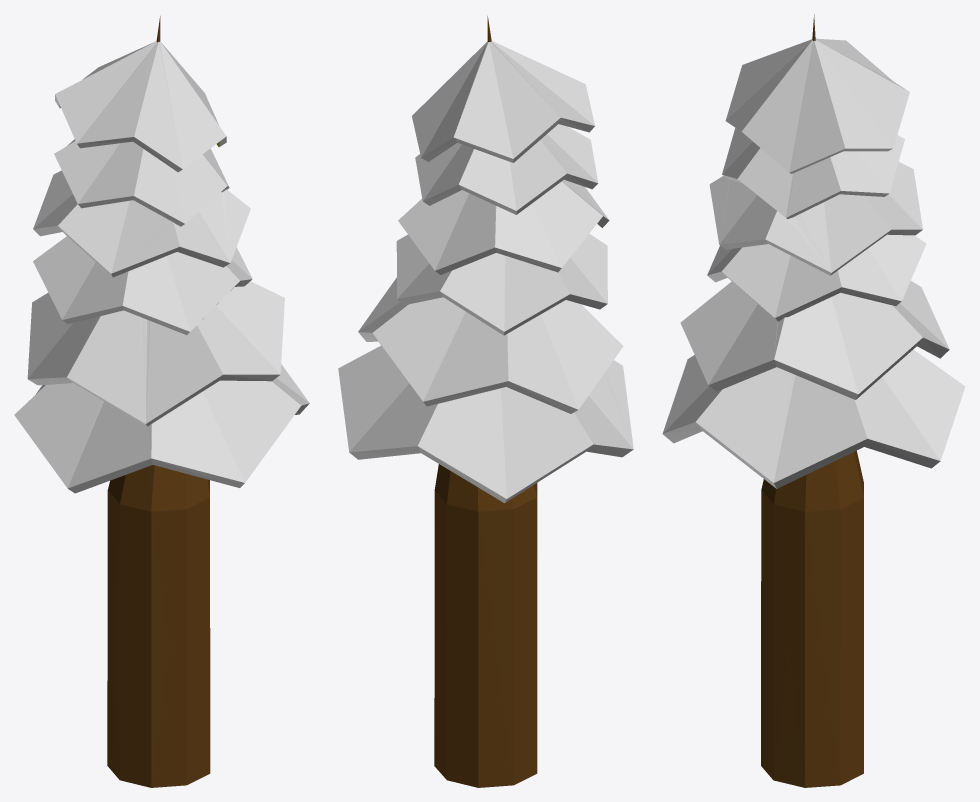
Rendered from earth_tree02_top.obj.
3 renders of one model, left to right at view 1: azimuth 30°, elevation 25°; view 2: azimuth 150°, elevation 25°; view 3: azimuth 270°, elevation 25°, orthographic.
Visible parts, largest first — view 1: Object.1; view 2: Object.1; view 3: Object.1.
Boxes of the visible parts, x1=… form: Object.1: x1=14, y1=16, x2=309, y2=787; Object.1: x1=338, y1=16, x2=633, y2=787; Object.1: x1=662, y1=14, x2=965, y2=787.
Bounding box in the file's own units: 19.44 × 54.7 × 19.98.
